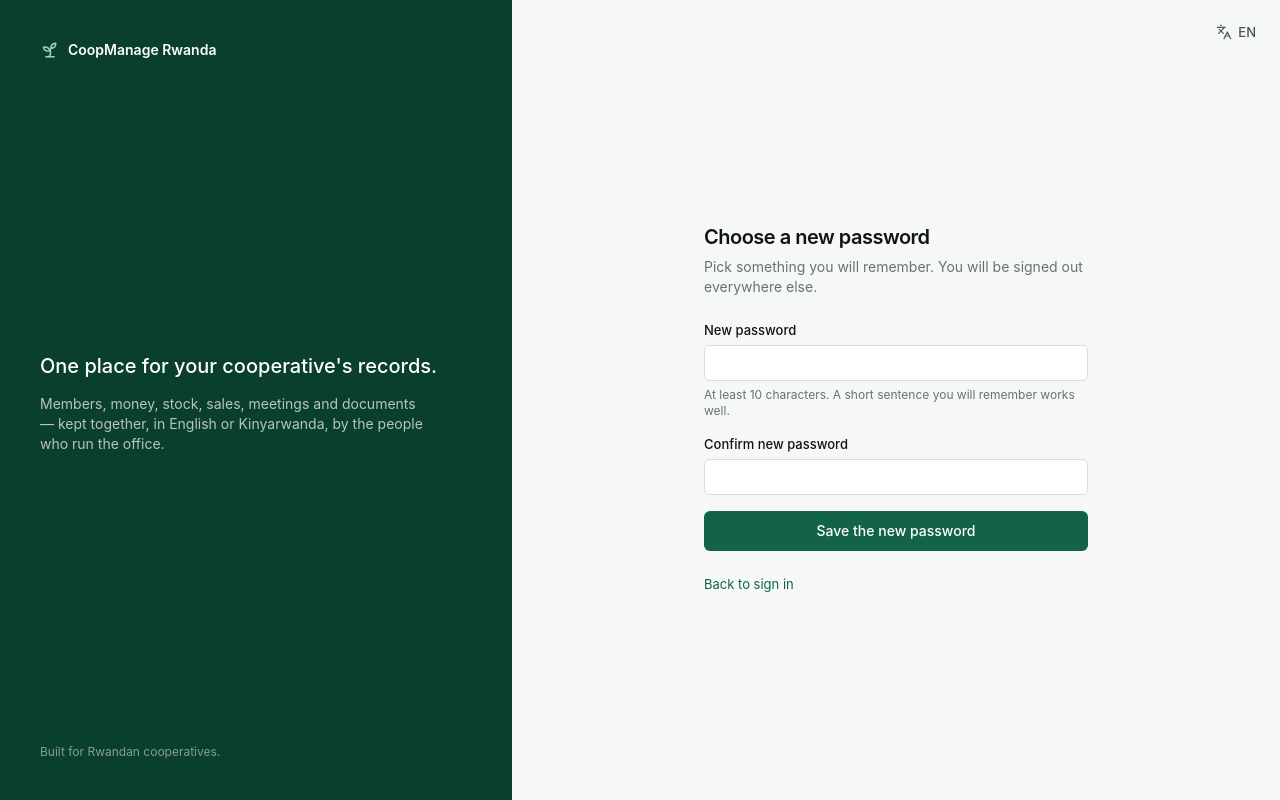
Test case: choosing a new password › refuses a password the API would refuse, before sending it
Step 1. Type "password123" into the password field labelled "New password" → {"x": 896, "y": 363}, box [704,345,1088,381]
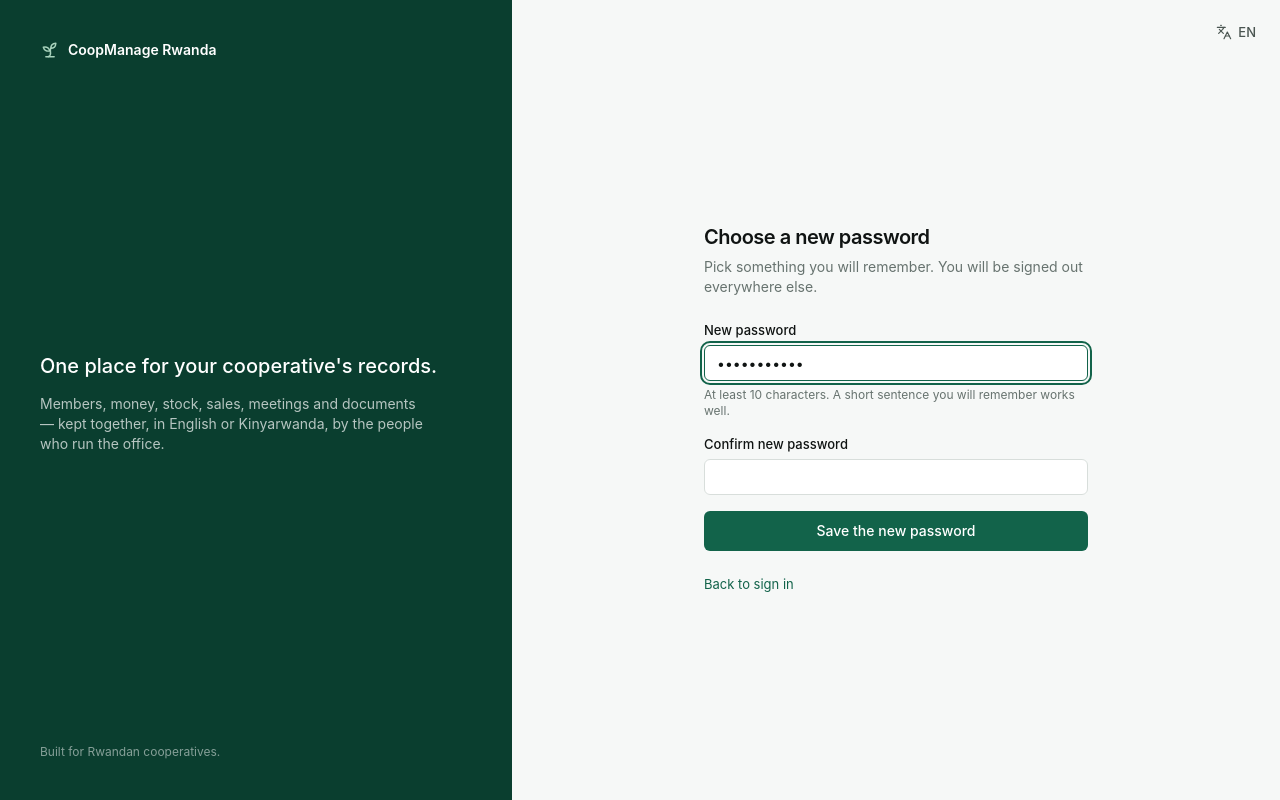
Step 2. Type "password123" into the password field labelled "Confirm new password" → {"x": 896, "y": 477}, box [704,459,1088,495]
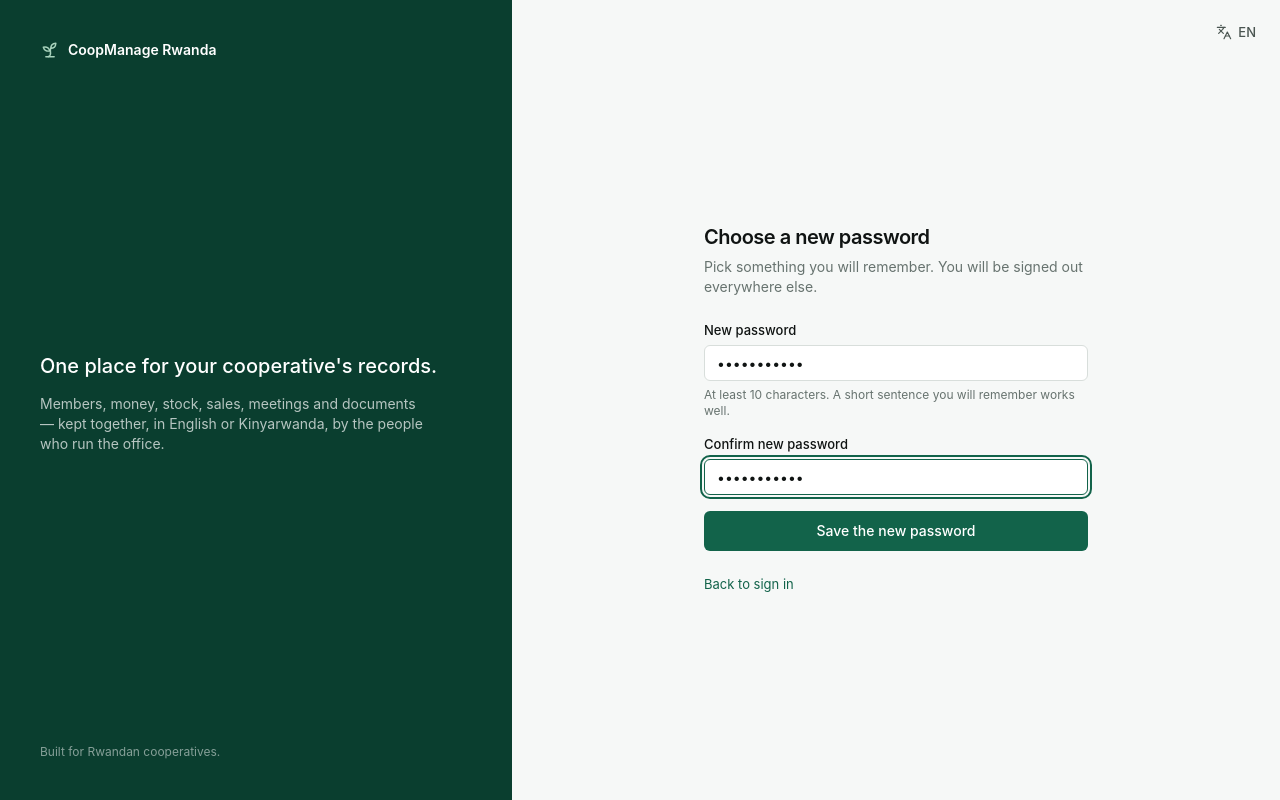
Step 3. Click the button "Save the new password" → {"x": 896, "y": 531}, box [704,511,1088,551]
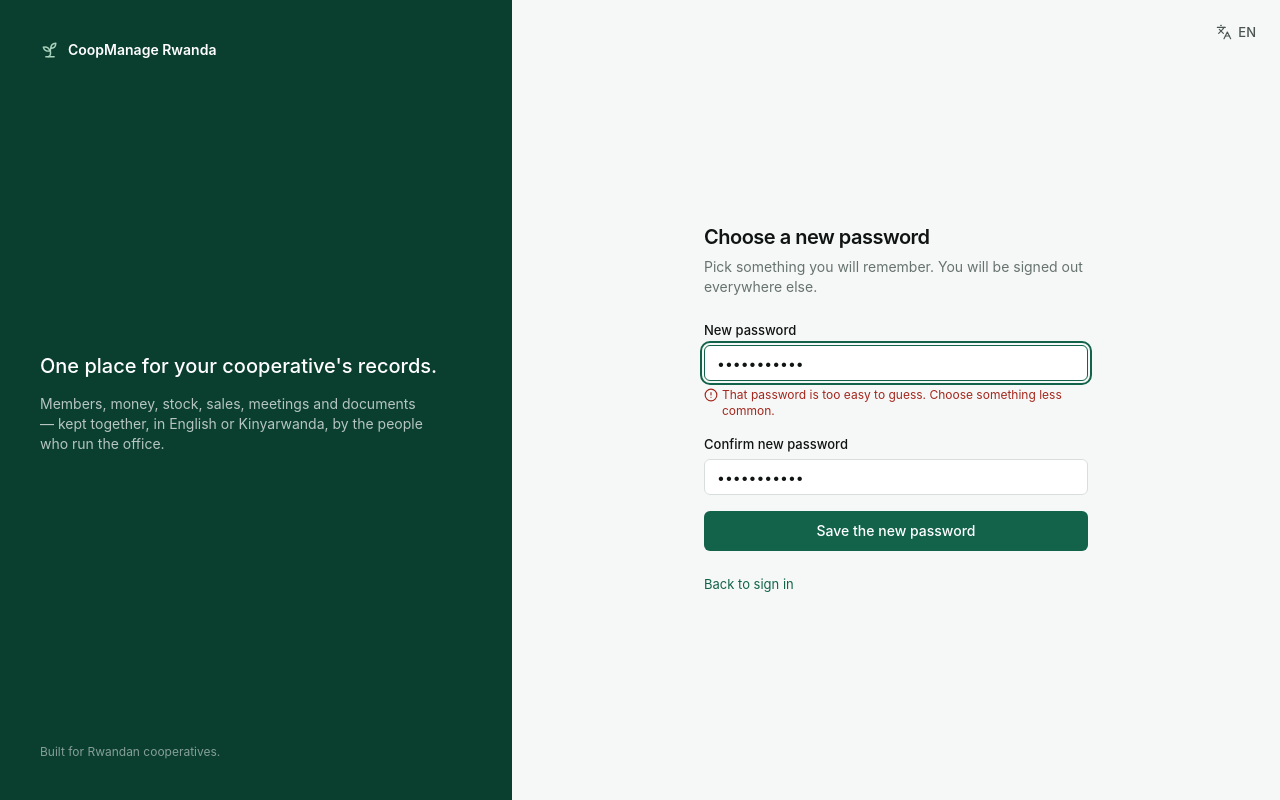
Expected: the text "too easy to guess" is shown, [722,387,1062,418]
